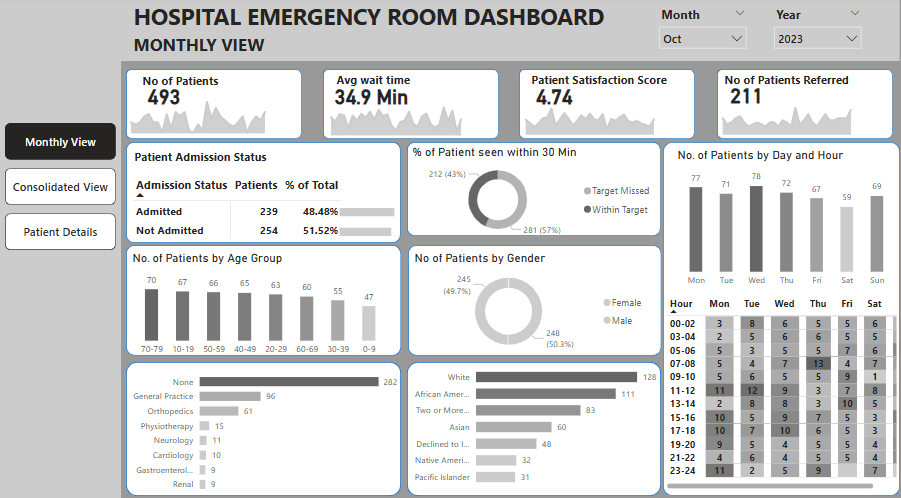

The dashboard page shown, as its layout file describes it:
{"tool":"powerbi","page":{"name":"Monthly View","canvas":[1280,720],"ordinal":0},"visuals":[{"type":"shape","box":[0,0,175.7,720],"z":0},{"type":"shape","box":[176.4,0,1103.6,90.7],"z":1000},{"type":"textbox","box":[188.1,0,687,60.5],"z":2000},{"type":"textbox","box":[188.1,45.4,235.2,42],"z":3000},{"type":"shape","box":[182.8,102,249.4,99.2],"z":4000},{"type":"card","fields":{"Values":["Hospital ER_Data.No. of Patients"]},"box":[199.8,119.1,73.7,41.1],"z":5000},{"type":"slicer","fields":{"Values":["Date.Month"]},"box":[928.9,6.7,144.5,75.6],"z":6000},{"type":"slicer","fields":{"Values":["Date.Year"]},"box":[1091.9,6.7,144.5,75.6],"z":7000},{"type":"textbox","box":[201.3,102,144.6,32.6],"z":8000},{"type":"stackedAreaChart","fields":{"Y":["Hospital ER_Data.No. of Patients"],"Category":["Date.Date.Variation.Date Hierarchy.Day"]},"box":[168.7,134.6,283.5,63.8],"z":9000},{"type":"shape","box":[462,102,249.4,99.2],"z":10000},{"type":"shape","box":[739.8,102,249.4,99.2],"z":11000},{"type":"shape","box":[1020.5,102,249.4,99.2],"z":12000},{"type":"textbox","box":[476.2,100.6,144.6,32.6],"z":13000},{"type":"card","fields":{"Values":["Hospital ER_Data.Avg Wait Time"]},"box":[469.1,119.1,123.3,42.5],"z":14000},{"type":"stackedAreaChart","fields":{"Category":["Date.Date.Variation.Date Hierarchy.Day"],"Y":["Avg(Hospital ER_Data.Patient Waittime)"]},"box":[452.1,137.5,276.4,63.8],"z":15000},{"type":"textbox","box":[1026.1,100.6,238.1,32.6],"z":16000},{"type":"card","fields":{"Values":["Hospital ER_Data.Satisfaction Score"]},"box":[728.5,119.1,123.3,42.5],"z":17000},{"type":"stackedAreaChart","fields":{"Category":["Date.Date.Variation.Date Hierarchy.Day"],"Y":["Hospital ER_Data.Satisfaction Score"]},"box":[728.5,137.5,272.1,63.8],"z":18000},{"type":"textbox","box":[752.6,100.6,238.1,32.6],"z":19000},{"type":"shape","box":[182.8,205.5,389.8,143.1],"z":20000},{"type":"card","fields":{"Values":["Hospital ER_Data.No of patient referred"]},"box":[1000.6,117.6,123.3,42.5],"z":21000},{"type":"stackedAreaChart","fields":{"Category":["Date.Date.Variation.Date Hierarchy.Day"],"Y":["Hospital ER_Data.No of patient referred"]},"box":[1007.7,137.5,272.1,63.8],"z":22000},{"type":"pivotTable","title":"Patient  Admission Status","fields":{"Rows":["Hospital ER_Data.Admission Status"],"Values":["Hospital ER_Data.No. of Patients","Divide(Hospital ER_Data.No. of Patients, ScopedEval(Hospital ER_Data.No. of Patients, []))"]},"box":[187.1,246.6,323.1,104.9],"z":23000},{"type":"clusteredBarChart","fields":{"Y":["Hospital ER_Data.No. of Patients"],"Category":["Hospital ER_Data.Admission Status"]},"box":[480.5,272.1,102,87.9],"z":24000},{"type":"textbox","box":[189.9,209.8,316.1,32.6],"z":25000},{"type":"shape","box":[581.1,205.5,360,133.2],"z":26000},{"type":"shape","box":[182.8,351.5,389.8,157.3],"z":27000},{"type":"shape","box":[182.8,517.3,389.8,189.9],"z":28000},{"type":"clusteredColumnChart","fields":{"Category":["Hospital ER_Data.Age Group"],"Y":["Hospital ER_Data.No. of Patients"]},"box":[187.1,360,372.8,157.3],"z":29000},{"type":"shape","box":[943.9,205.5,335.9,501.7],"z":30000},{"type":"pivotTable","fields":{"Rows":["Hospital ER_Data.Waittime Interval"],"Columns":["Date.Week Day"],"Values":["Hospital ER_Data.No. of Patients"]},"box":[943.9,419.5,335.9,283.5],"z":31000},{"type":"clusteredBarChart","fields":{"Category":["Hospital ER_Data.Department Referral"],"Y":["Hospital ER_Data.No. of Patients"]},"box":[174.3,517.3,398.3,194.2],"z":32000},{"type":"donutChart","title":"% of Patient seen within 30 Min","fields":{"Y":["Hospital ER_Data.No. of Patients"],"Category":["Hospital ER_Data.Waittime status"]},"box":[583.9,209.8,355.7,136.1],"z":33000},{"type":"shape","box":[582.5,351.5,360,157.3],"z":34000},{"type":"donutChart","title":"No of Patients by Gender","fields":{"Y":["Hospital ER_Data.No. of Patients"],"Category":["Hospital ER_Data.Patient Gender"]},"box":[586.8,360,341.6,151.7],"z":35000},{"type":"shape","box":[581.1,517.3,360,189.9],"z":36000},{"type":"clusteredBarChart","fields":{"Y":["Hospital ER_Data.No. of Patients"],"Category":["Hospital ER_Data.Patient Race"]},"box":[574,508.8,367.1,194.2],"z":37000},{"type":"columnChart","title":"No. of Patients by Day and Hour","fields":{"Category":["Date.Week Day"],"Y":["Hospital ER_Data.No. of Patients"]},"box":[959.5,214,320.3,205.5],"z":38000},{"type":"pageNavigator","box":[11.3,178.6,157.3,181.4],"z":39000}]}

Visuals, with their boxes on the page's 1280x720 design canvas (x1, y1, x2, y2). These are canvas units, not pixel positions in the 901x498 screenshot, which may show the page scaled, cropped or inside an application window:
shape: bbox=(0, 0, 176, 720)
shape: bbox=(176, 0, 1280, 91)
textbox: bbox=(188, 0, 875, 60)
textbox: bbox=(188, 45, 423, 87)
shape: bbox=(183, 102, 432, 201)
card - Hospital ER_Data.No. of Patients: bbox=(200, 119, 274, 160)
slicer - Date.Month: bbox=(929, 7, 1073, 82)
slicer - Date.Year: bbox=(1092, 7, 1236, 82)
textbox: bbox=(201, 102, 346, 135)
stackedAreaChart - Hospital ER_Data.No. of Patients x Date.Date.Variation.Date Hierarchy.Day: bbox=(169, 135, 452, 198)
shape: bbox=(462, 102, 711, 201)
shape: bbox=(740, 102, 989, 201)
shape: bbox=(1020, 102, 1270, 201)
textbox: bbox=(476, 101, 621, 133)
card - Hospital ER_Data.Avg Wait Time: bbox=(469, 119, 592, 162)
stackedAreaChart - Date.Date.Variation.Date Hierarchy.Day x Avg(Hospital ER_Data.Patient Waittime): bbox=(452, 138, 728, 201)
textbox: bbox=(1026, 101, 1264, 133)
card - Hospital ER_Data.Satisfaction Score: bbox=(728, 119, 852, 162)
stackedAreaChart - Date.Date.Variation.Date Hierarchy.Day x Hospital ER_Data.Satisfaction Score: bbox=(728, 138, 1001, 201)
textbox: bbox=(753, 101, 991, 133)
shape: bbox=(183, 206, 573, 349)
card - Hospital ER_Data.No of patient referred: bbox=(1001, 118, 1124, 160)
stackedAreaChart - Date.Date.Variation.Date Hierarchy.Day x Hospital ER_Data.No of patient referred: bbox=(1008, 138, 1280, 201)
"Patient  Admission Status" pivotTable: bbox=(187, 247, 510, 352)
clusteredBarChart - Hospital ER_Data.No. of Patients x Hospital ER_Data.Admission Status: bbox=(480, 272, 582, 360)
textbox: bbox=(190, 210, 506, 242)
shape: bbox=(581, 206, 941, 339)
shape: bbox=(183, 352, 573, 509)
shape: bbox=(183, 517, 573, 707)
clusteredColumnChart - Hospital ER_Data.Age Group x Hospital ER_Data.No. of Patients: bbox=(187, 360, 560, 517)
shape: bbox=(944, 206, 1280, 707)
pivotTable - Hospital ER_Data.Waittime Interval x Date.Week Day: bbox=(944, 420, 1280, 703)
clusteredBarChart - Hospital ER_Data.Department Referral x Hospital ER_Data.No. of Patients: bbox=(174, 517, 573, 712)
"% of Patient seen within 30 Min" donutChart: bbox=(584, 210, 940, 346)
shape: bbox=(582, 352, 942, 509)
"No of Patients by Gender" donutChart: bbox=(587, 360, 928, 512)
shape: bbox=(581, 517, 941, 707)
clusteredBarChart - Hospital ER_Data.No. of Patients x Hospital ER_Data.Patient Race: bbox=(574, 509, 941, 703)
"No. of Patients by Day and Hour" columnChart: bbox=(960, 214, 1280, 420)
pageNavigator: bbox=(11, 179, 169, 360)
